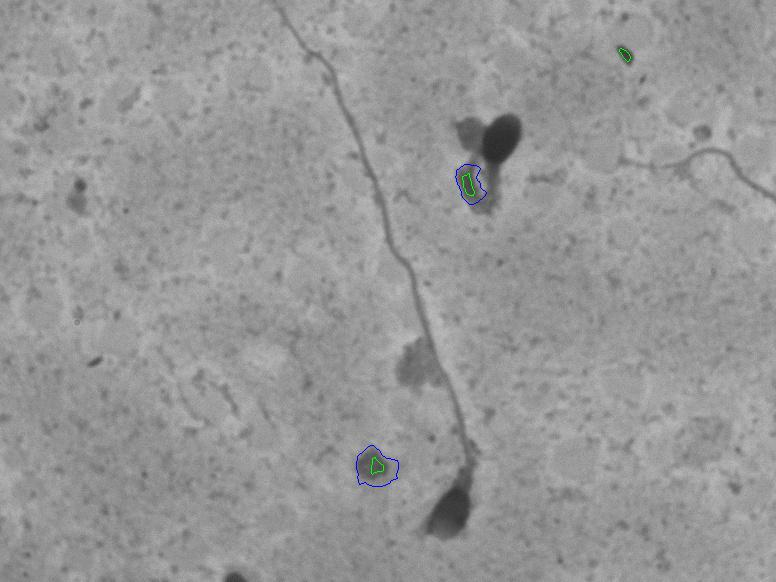Abnormal: (443, 94, 556, 228)
Normal: (270, 10, 510, 568)
